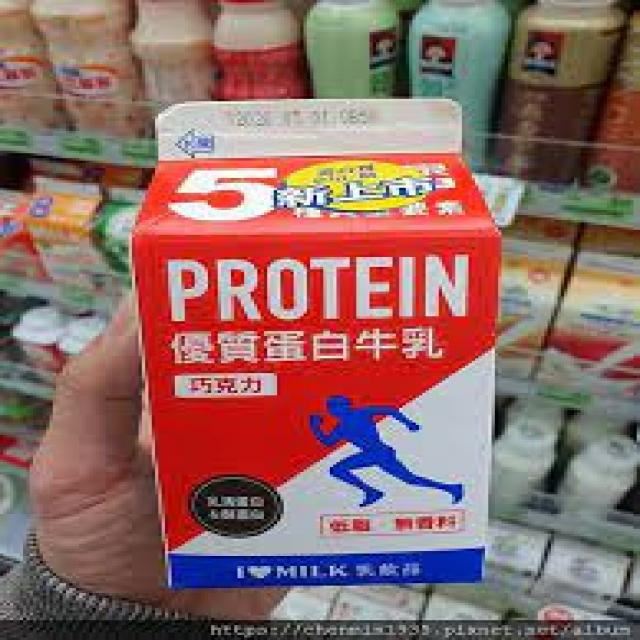non_white_jug: (128, 90, 500, 592)
